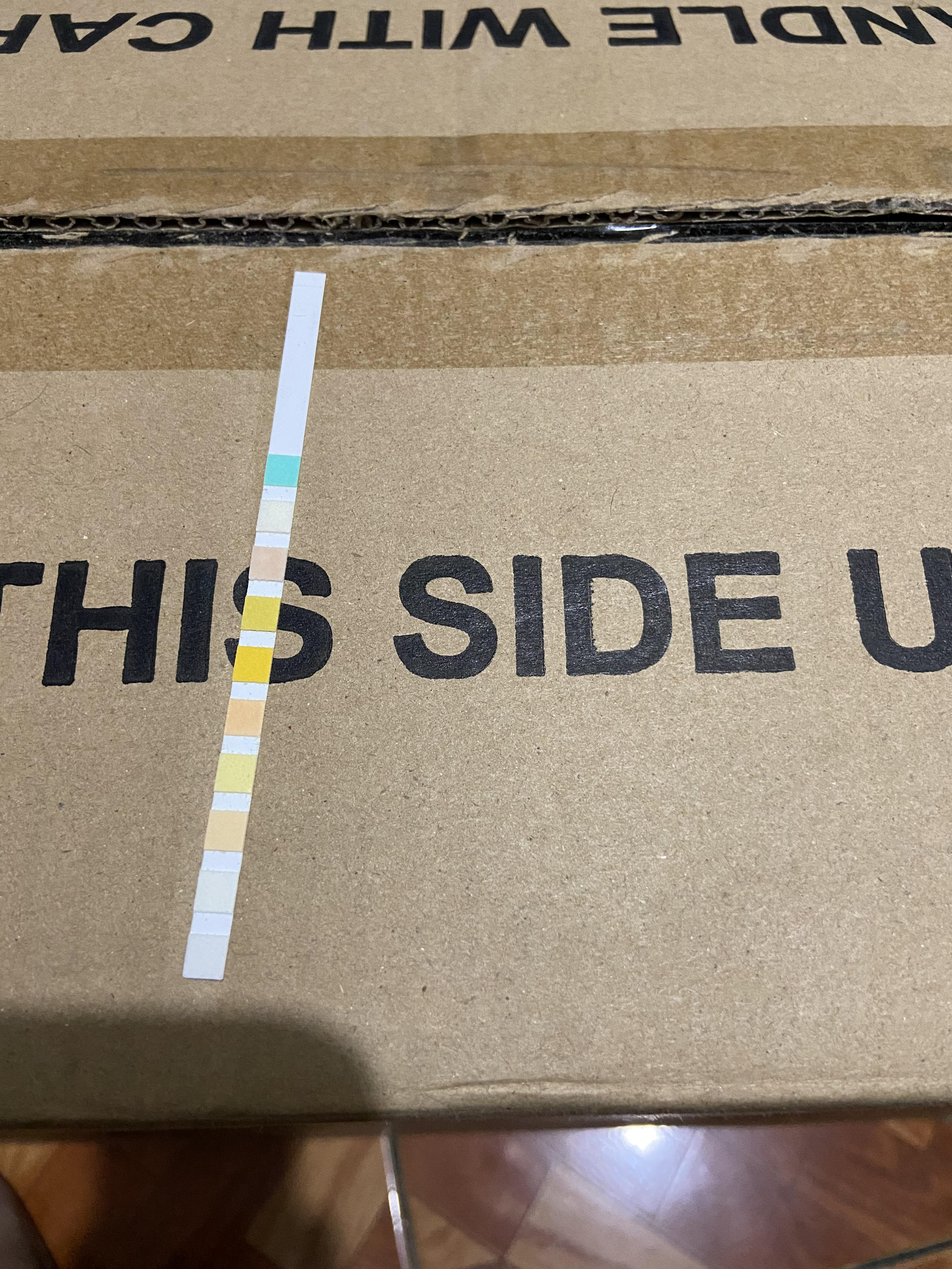Bilirubin: (262, 500, 290, 532)
Blood: (239, 647, 268, 682)
Glucose: (269, 455, 297, 486)
Ketone: (254, 547, 283, 580)
Leukocytes: (188, 936, 224, 977)
Nitrite: (201, 872, 233, 910)
Protein: (221, 754, 252, 791)
SpGravity: (247, 596, 276, 630)
Urobilinogen: (211, 811, 241, 849)
pH: (231, 700, 260, 736)
strip: (182, 273, 326, 982)
